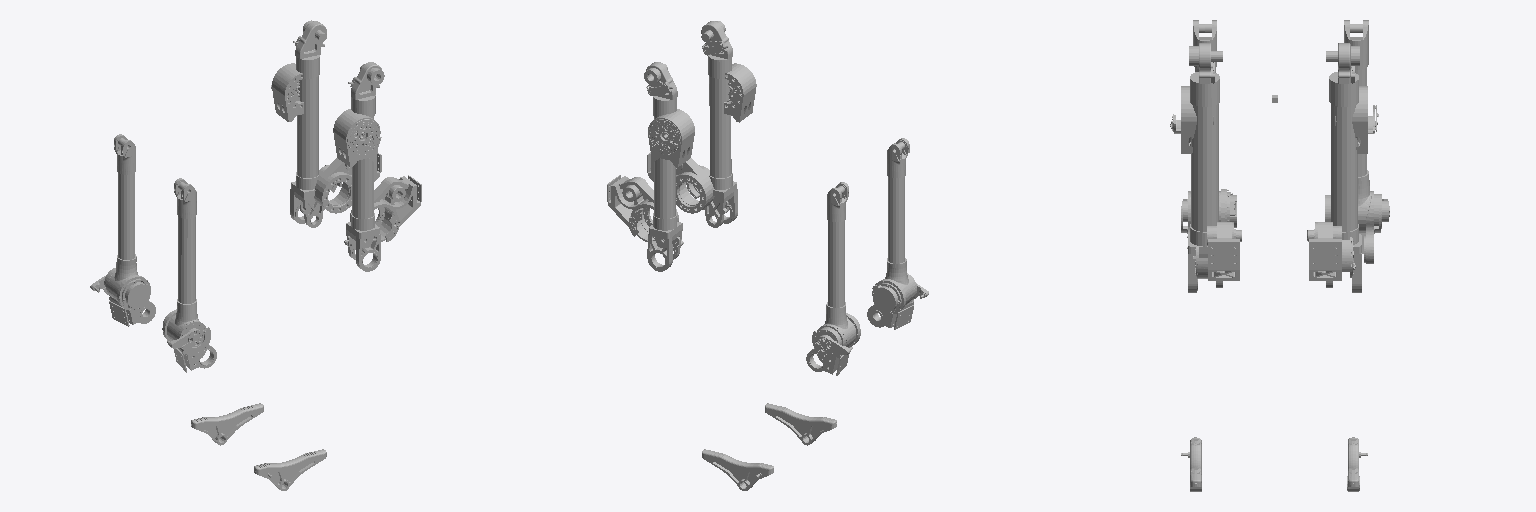
--- Render facts (derived) ---
The picture shows the robot from 3 angles, left to right: view 1: azimuth 30°, elevation 25°; view 2: azimuth 150°, elevation 25°; view 3: azimuth 270°, elevation 25°; orthographic projection.
Robot: urdf_5 — 16 links, 15 joints (14 revolute, 1 fixed); root link pelvis; default pose: all joints at 0.
Visible links, largest first — view 1: l_tarsus, r_tarsus, l_shin, r_shin, r_knee, r_hip_yaw, l_knee, l_hip_yaw, l_toe, r_toe; view 2: r_tarsus, r_shin, l_tarsus, l_shin, l_knee, l_hip_yaw, r_knee, r_hip_yaw, r_toe, l_toe; view 3: r_shin, l_shin, l_tarsus, l_knee, r_knee, r_tarsus, l_hip_yaw, r_hip_yaw, r_toe, l_toe.
Boxes of the visible links, box(x1,y1,x2,y2) form: l_tarsus: box(90, 134, 155, 326); r_tarsus: box(162, 178, 216, 372); l_shin: box(290, 20, 326, 227); r_shin: box(344, 62, 384, 271); r_knee: box(350, 175, 421, 241); r_hip_yaw: box(333, 109, 381, 167); l_knee: box(314, 153, 381, 213); l_hip_yaw: box(271, 63, 303, 121); l_toe: box(191, 403, 263, 445); r_toe: box(254, 449, 326, 490); r_tarsus: box(867, 138, 928, 329); r_shin: box(701, 21, 737, 227); l_tarsus: box(806, 182, 860, 375); l_shin: box(644, 62, 683, 271); l_knee: box(607, 175, 678, 241); l_hip_yaw: box(648, 109, 694, 166); r_knee: box(647, 152, 714, 213); r_hip_yaw: box(709, 63, 756, 122); r_toe: box(765, 403, 836, 445); l_toe: box(702, 449, 773, 490); r_shin: box(1188, 43, 1222, 292); l_shin: box(1326, 43, 1361, 292); l_tarsus: box(1325, 20, 1389, 263); l_knee: box(1307, 222, 1355, 280); r_knee: box(1193, 222, 1241, 280); r_tarsus: box(1181, 20, 1236, 248); l_hip_yaw: box(1335, 86, 1378, 153); r_hip_yaw: box(1170, 86, 1213, 153); r_toe: box(1181, 437, 1201, 491); l_toe: box(1347, 437, 1367, 491).
Size in the robot's own frame: 0.6566 by 0.3835 by 0.9679 metres.
Meshes: 16 distinct files referenced, 11 mesh visuals loaded (11 binary STL); not drawn: 5 (reference not matched to a file when rendering).

robot.urdf — urdf_5:
<?xml version="1.0" encoding="utf-8"?>
<!-- This URDF was automatically created by SolidWorks to URDF Exporter! Originally created by Stephen Brawner ([email redacted]) 
     Commit Version: 1.5.1-0-g916b5db  Build Version: 1.5.7152.31018
     For more information, please see http://wiki.ros.org/sw_urdf_exporter -->
<robot
  name="urdf_5">
  <link
    name="pelvis">
    <inertial>
      <origin
        xyz="0.0295583628182488 3.89626767705723E-05 -0.0155783424997366"
        rpy="0 0 0" />
      <mass
        value="6.56964969274137" />
      <inertia
        ixx="0.0235604863264443"
        ixy="-2.84451907912667E-06"
        ixz="7.97597097465654E-06"
        iyy="0.014455865873678"
        iyz="-6.61650817705916E-07"
        izz="0.010763598299641" />
    </inertial>
    <visual>
      <origin
        xyz="0 0 0"
        rpy="0 0 0" />
      <geometry>
        <mesh
          filename="package://urdf_5/meshes/pelvis.STL" />
      </geometry>
      <material
        name="">
        <color
          rgba="0.898039215686275 0.917647058823529 0.929411764705882 1" />
      </material>
    </visual>
    <collision>
      <origin
        xyz="0 0 0"
        rpy="0 0 0" />
      <geometry>
        <mesh
          filename="package://urdf_5/meshes/pelvis.STL" />
      </geometry>
    </collision>
  </link>
  <link
    name="r_hip_roll">
    <inertial>
      <origin
        xyz="-0.0197574983038815 6.70238844217574E-05 -0.0419288941787987"
        rpy="0 0 0" />
      <mass
        value="1.97423093969954" />
      <inertia
        ixx="0.00185917486275064"
        ixy="1.49050941020286E-06"
        ixz="6.47326004132623E-06"
        iyy="0.00121028974020037"
        iyz="-5.40839098441066E-07"
        izz="0.00117581613527246" />
    </inertial>
    <visual>
      <origin
        xyz="0 0 0"
        rpy="0 0 0" />
      <geometry>
        <mesh
          filename="package://urdf_5/meshes/r_hip_roll.STL" />
      </geometry>
      <material
        name="">
        <color
          rgba="0.752941176470588 0.752941176470588 0.752941176470588 1" />
      </material>
    </visual>
    <collision>
      <origin
        xyz="0 0 0"
        rpy="0 0 0" />
      <geometry>
        <mesh
          filename="package://urdf_5/meshes/r_hip_roll.STL" />
      </geometry>
    </collision>
  </link>
  <joint
    name="hip_abduction_right"
    type="revolute">
    <origin
      xyz="-0.0195 -0.134506096654411 -0.0478050865276331"
      rpy="0 1.5707963267949 0" />
    <parent
      link="pelvis" />
    <child
      link="r_hip_roll" />
    <axis
      xyz="0 0 1" />
    <limit
      lower="-0.069"
      upper="0.344"
      effort="10"
      velocity="15" />
  </joint>
  <link
    name="r_hip_yaw">
    <inertial>
      <origin
        xyz="-4.73889251259713E-05 -0.00363016329193702 -0.0508973830153509"
        rpy="0 0 0" />
      <mass
        value="2.43369646818749" />
      <inertia
        ixx="0.00169395681390418"
        ixy="1.50517005595135E-07"
        ixz="-2.19244261918116E-06"
        iyy="0.00234333945964064"
        iyz="3.68852375682851E-05"
        izz="0.00159777296294738" />
    </inertial>
    <visual>
      <origin
        xyz="0 0 0"
        rpy="0 0 0" />
      <geometry>
        <mesh
          filename="package://urdf_5/meshes/r_hip_yaw.STL" />
      </geometry>
      <material
        name="">
        <color
          rgba="0.752941176470588 0.752941176470588 0.752941176470588 1" />
      </material>
    </visual>
    <collision>
      <origin
        xyz="0 0 0"
        rpy="0 0 0" />
      <geometry>
        <mesh
          filename="package://urdf_5/meshes/r_hip_yaw.STL" />
      </geometry>
    </collision>
  </link>
  <joint
    name="hip_rotation_right"
    type="revolute">
    <origin
      xyz="0.0374999999999999 0 -0.0430000000000001"
      rpy="3.14159265358979 1.5707963267949 0" />
    <parent
      link="r_hip_roll" />
    <child
      link="r_hip_yaw" />
    <axis
      xyz="0 0 -1" />
    <limit
      lower="-0.681196"
      upper="0.44797"
      effort="10"
      velocity="15" />
  </joint>
  <link
    name="r_thigh">
    <inertial>
      <origin
        xyz="-0.0745079808230154 0.052111267790468 -0.0494445886607852"
        rpy="0 0 0" />
      <mass
        value="3.91559915557665" />
      <inertia
        ixx="0.00344102351153632"
        ixy="0.00110098559640812"
        ixz="1.28514417494688E-05"
        iyy="0.00424320943024533"
        iyz="-9.32936140950999E-06"
        izz="0.00646296325711755" />
    </inertial>
    <visual>
      <origin
        xyz="0 0 0"
        rpy="0 0 0" />
      <geometry>
        <mesh
          filename="package://urdf_5/meshes/r_thigh.STL" />
      </geometry>
      <material
        name="">
        <color
          rgba="0.752941176470588 0.752941176470588 0.752941176470588 1" />
      </material>
    </visual>
    <collision>
      <origin
        xyz="0 0 0"
        rpy="0 0 0" />
      <geometry>
        <mesh
          filename="package://urdf_5/meshes/r_thigh.STL" />
      </geometry>
    </collision>
  </link>
  <joint
    name="hip_flexion_right"
    type="revolute">
    <origin
      xyz="0 -0.0288 -0.0555"
      rpy="1.5708 -1.5708 0" />
    <parent
      link="r_hip_yaw" />
    <child
      link="r_thigh" />
    <axis
      xyz="0 0 -1" />
    <limit
      lower="-1.6"
      upper="0.92"
      effort="10"
      velocity="15" />
  </joint>
  <link
    name="r_knee">
    <inertial>
      <origin
        xyz="-0.0673347908699271 -0.0408261195227061 -0.0468258514381678"
        rpy="0 0 0" />
      <mass
        value="1.01415633393374" />
      <inertia
        ixx="0.00138091069071133"
        ixy="-0.000368990120373793"
        ixz="6.67170729229829E-05"
        iyy="0.00150859277279031"
        iyz="3.04334793097718E-05"
        izz="0.00232695030098416" />
    </inertial>
    <visual>
      <origin
        xyz="0 0 0"
        rpy="0 0 0" />
      <geometry>
        <mesh
          filename="package://urdf_5/meshes/r_knee.STL" />
      </geometry>
      <material
        name="">
        <color
          rgba="0.752941176470588 0.752941176470588 0.752941176470588 1" />
      </material>
    </visual>
    <collision>
      <origin
        xyz="0 0 0"
        rpy="0 0 0" />
      <geometry>
        <mesh
          filename="package://urdf_5/meshes/r_knee.STL" />
      </geometry>
    </collision>
  </link>
  <joint
    name="knee_joint_right"
    type="revolute">
    <origin
      xyz="-0.0982982453146869 0.0688291723621176 0.0175000000000045"
      rpy="0 0 0" />
    <parent
      link="r_thigh" />
    <child
      link="r_knee" />
    <axis
      xyz="0 0 -1" />
    <limit
      lower="-1.4"
      upper="1.4"
      effort="10"
      velocity="15" />
  </joint>
  <link
    name="r_shin">
    <inertial>
      <origin
        xyz="-0.0655655590465977 -0.214237329289944 -0.012227728603061"
        rpy="0 0 0" />
      <mass
        value="0.779006439067188" />
      <inertia
        ixx="0.001885379913285"
        ixy="-0.000499796698378055"
        ixz="1.5631863147635E-05"
        iyy="0.000554466898366838"
        iyz="4.66941850735502E-05"
        izz="0.00211050664331812" />
    </inertial>
    <visual>
      <origin
        xyz="0 0 0"
        rpy="0 0 0" />
      <geometry>
        <mesh
          filename="package://urdf_5/meshes/r_shin.STL" />
      </geometry>
      <material
        name="">
        <color
          rgba="0.752941176470588 0.752941176470588 0.752941176470588 1" />
      </material>
    </visual>
    <collision>
      <origin
        xyz="0 0 0"
        rpy="0 0 0" />
      <geometry>
        <mesh
          filename="package://urdf_5/meshes/r_shin.STL" />
      </geometry>
    </collision>
  </link>
  <joint
    name="knee_to_shin_right"
    type="revolute">
    <origin
      xyz="-0.0622865114519081 -0.0452537994909014 -0.0332000000000044"
      rpy="0 0 0" />
    <parent
      link="r_knee" />
    <child
      link="r_shin" />
    <axis
      xyz="0 0 -1" />
    <limit
      lower="-100"
      upper="100"
      effort="0"
      velocity="100" />
  </joint>
  <link
    name="r_tarsus">
    <inertial>
      <origin
        xyz="-0.0971045118176032 0.0211752476502589 -0.012271872384403"
        rpy="0 0 0" />
      <mass
        value="2.32212245172256" />
      <inertia
        ixx="0.00177914816893645"
        ixy="0.00149931256042182"
        ixz="6.01246794473345E-05"
        iyy="0.00327667598598386"
        iyz="6.39186335575597E-06"
        izz="0.00448861418919199" />
    </inertial>
    <visual>
      <origin
        xyz="0 0 0"
        rpy="0 0 0" />
      <geometry>
        <mesh
          filename="package://urdf_5/meshes/r_tarsus.STL" />
      </geometry>
      <material
        name="">
        <color
          rgba="0.752941176470588 0.752941176470588 0.752941176470588 1" />
      </material>
    </visual>
    <collision>
      <origin
        xyz="0 0 0"
        rpy="0 0 0" />
      <geometry>
        <mesh
          filename="package://urdf_5/meshes/r_tarsus.STL" />
      </geometry>
    </collision>
  </link>
  <joint
    name="ankle_joint_right"
    type="revolute">
    <origin
      xyz="-0.139072356227994 -0.412443838277642 -0.00209999999999977"
      rpy="0 0 0" />
    <parent
      link="r_shin" />
    <child
      link="r_tarsus" />
    <axis
      xyz="0 0 -1" />
    <limit
      lower="-100"
      upper="100"
      effort="0"
      velocity="100" />
  </joint>
  <link
    name="r_toe">
    <inertial>
      <origin
        xyz="-0.0317994627773587 0.0131603145338895 0.00022635510387084"
        rpy="0 0 0" />
      <mass
        value="0.190609208184761" />
      <inertia
        ixx="0.000403925014775728"
        ixy="1.80428934533816E-05"
        ixz="3.53742223816384E-07"
        iyy="4.57189572620081E-05"
        iyz="2.25660506417667E-06"
        izz="0.000437978027001801" />
    </inertial>
    <visual>
      <origin
        xyz="0 0 0"
        rpy="0 0 0" />
      <geometry>
        <mesh
          filename="package://urdf_5/meshes/r_toe.STL" />
      </geometry>
      <material
        name="">
        <color
          rgba="0.752941176470588 0.752941176470588 0.752941176470588 1" />
      </material>
    </visual>
    <collision>
      <origin
        xyz="0 0 0"
        rpy="0 0 0" />
      <geometry>
        <mesh
          filename="package://urdf_5/meshes/r_toe.STL" />
      </geometry>
    </collision>
  </link>
  <joint
    name="toe_joint_right"
    type="revolute">
    <origin
      xyz="-0.357107796380238 0.199306351540648 -0.0138000000000043"
      rpy="0 0 0" />
    <parent
      link="r_tarsus" />
    <child
      link="r_toe" />
    <axis
      xyz="0 0 1" />
    <limit
      lower="-0.48"
      upper="0.8929"
      effort="10"
      velocity="15" />
  </joint>
  <link
    name="l_hip_roll">
    <inertial>
      <origin
        xyz="-0.0197574983038945 6.70238844331927E-05 -0.0419288941787983"
        rpy="0 0 0" />
      <mass
        value="1.97423093969954" />
      <inertia
        ixx="0.00185917486275064"
        ixy="1.49050941021026E-06"
        ixz="6.4732600413259E-06"
        iyy="0.00121028974020037"
        iyz="-5.40839098440844E-07"
        izz="0.00117581613527246" />
    </inertial>
    <visual>
      <origin
        xyz="0 0 0"
        rpy="0 0 0" />
      <geometry>
        <mesh
          filename="package://urdf_5/meshes/l_hip_roll.STL" />
      </geometry>
      <material
        name="">
        <color
          rgba="0.752941176470588 0.752941176470588 0.752941176470588 1" />
      </material>
    </visual>
    <collision>
      <origin
        xyz="0 0 0"
        rpy="0 0 0" />
      <geometry>
        <mesh
          filename="package://urdf_5/meshes/l_hip_roll.STL" />
      </geometry>
    </collision>
  </link>
  <joint
    name="hip_abduction_left"
    type="revolute">
    <origin
      xyz="-0.0195 0.13451 -0.047805"
      rpy="0 1.5708 0" />
    <parent
      link="pelvis" />
    <child
      link="l_hip_roll" />
    <axis
      xyz="0 0 -1" />
    <limit
      lower="-0.5944"
      upper="0.1442"
      effort="10"
      velocity="15" />
  </joint>
  <link
    name="l_hip_yaw">
    <inertial>
      <origin
        xyz="4.73889254370419E-05 0.0036301632926162 -0.0508973830148025"
        rpy="0 0 0" />
      <mass
        value="2.43369646823689" />
      <inertia
        ixx="0.00169395681390481"
        ixy="1.50517004720118E-07"
        ixz="2.1924426180063E-06"
        iyy="0.00234333945964616"
        iyz="-3.68852375683957E-05"
        izz="0.00159777296295269" />
    </inertial>
    <visual>
      <origin
        xyz="0 0 0"
        rpy="0 0 0" />
      <geometry>
        <mesh
          filename="package://urdf_5/meshes/l_hip_yaw.STL" />
      </geometry>
      <material
        name="">
        <color
          rgba="0.752941176470588 0.752941176470588 0.752941176470588 1" />
      </material>
    </visual>
    <collision>
      <origin
        xyz="0 0 0"
        rpy="0 0 0" />
      <geometry>
        <mesh
          filename="package://urdf_5/meshes/l_hip_yaw.STL" />
      </geometry>
    </collision>
  </link>
  <joint
    name="hip_rotation_left"
    type="revolute">
    <origin
      xyz="0.0374999999999868 0 -0.0429999999999999"
      rpy="3.14159265358979 1.5707963267949 0" />
    <parent
      link="l_hip_roll" />
    <child
      link="l_hip_yaw" />
    <axis
      xyz="0 0 -1" />
    <limit
      lower="-0.4954"
      upper="0.5398"
      effort="10"
      velocity="15" />
  </joint>
  <link
    name="l_thigh">
    <inertial>
      <origin
        xyz="-0.0744518040820603 0.0521914964905483 0.0494445886564207"
        rpy="0 0 0" />
      <mass
        value="3.91559915533823" />
      <inertia
        ixx="0.00344167160376412"
        ixy="0.00110122148268822"
        ixz="-1.31621840222351E-05"
        iyy="0.00424256133801776"
        iyz="8.88557545204398E-06"
        izz="0.0064629632571176" />
    </inertial>
    <visual>
      <origin
        xyz="0 0 0"
        rpy="0 0 0" />
      <geometry>
        <mesh
          filename="package://urdf_5/meshes/l_thigh.STL" />
      </geometry>
      <material
        name="">
        <color
          rgba="0.752941176470588 0.752941176470588 0.752941176470588 1" />
      </material>
    </visual>
    <collision>
      <origin
        xyz="0 0 0"
        rpy="0 0 0" />
      <geometry>
        <mesh
          filename="package://urdf_5/meshes/l_thigh.STL" />
      </geometry>
    </collision>
  </link>
  <joint
    name="hip_flexion_left"
    type="revolute">
    <origin
      xyz="0 0.0288 -0.0554999999999999"
      rpy="1.5707963267949 -1.5707963267949 0" />
    <parent
      link="l_hip_yaw" />
    <child
      link="l_thigh" />
    <axis
      xyz="0 0 1" />
    <limit
      lower="-0.6"
      upper="1.5"
      effort="10"
      velocity="15" />
  </joint>
  <link
    name="l_knee">
    <inertial>
      <origin
        xyz="-0.0674504468774295 -0.0412252555293424 0.0468358431629735"
        rpy="0 0 0" />
      <mass
        value="1.01415630200042" />
      <inertia
        ixx="0.00138260359008994"
        ixy="-0.000366289518226366"
        ixz="-6.65724363896731E-05"
        iyy="0.00150689989702241"
        iyz="-2.99281840357891E-05"
        izz="0.0023269503250984" />
    </inertial>
    <visual>
      <origin
        xyz="0 0 0"
        rpy="0 0 0" />
      <geometry>
        <mesh
          filename="package://urdf_5/meshes/l_knee.STL" />
      </geometry>
      <material
        name="">
        <color
          rgba="0.752941176470588 0.752941176470588 0.752941176470588 1" />
      </material>
    </visual>
    <collision>
      <origin
        xyz="0 0 0"
        rpy="0 0 0" />
      <geometry>
        <mesh
          filename="package://urdf_5/meshes/l_knee.STL" />
      </geometry>
    </collision>
  </link>
  <joint
    name="knee_joint_left"
    type="revolute">
    <origin
      xyz="-0.0982982453146868 0.0688291723621176 -0.0175000000000029"
      rpy="0 0 0" />
    <parent
      link="l_thigh" />
    <child
      link="l_knee" />
    <axis
      xyz="0 0 1" />
    <limit
      lower="-1.5"
      upper="1.4648"
      effort="10"
      velocity="15" />
  </joint>
  <link
    name="l_shin">
    <inertial>
      <origin
        xyz="-0.0655890782733554 -0.214230585561483 0.0120337722608557"
        rpy="0 0 0" />
      <mass
        value="0.779006437877839" />
      <inertia
        ixx="0.00188530034989171"
        ixy="-0.000499924025736178"
        ixz="-1.56225974135257E-05"
        iyy="0.000554546460742109"
        iyz="-4.66852690344843E-05"
        izz="0.00211050664189535" />
    </inertial>
    <visual>
      <origin
        xyz="0 0 0"
        rpy="0 0 0" />
      <geometry>
        <mesh
          filename="package://urdf_5/meshes/l_shin.STL" />
      </geometry>
      <material
        name="">
        <color
          rgba="0.752941176470588 0.752941176470588 0.752941176470588 1" />
      </material>
    </visual>
    <collision>
      <origin
        xyz="0 0 0"
        rpy="0 0 0" />
      <geometry>
        <mesh
          filename="package://urdf_5/meshes/l_shin.STL" />
      </geometry>
    </collision>
  </link>
  <joint
    name="knee_to_shin_left"
    type="revolute">
    <origin
      xyz="-0.0622865114519203 -0.0452537994909036 0.0331999999999999"
      rpy="0 0 0" />
    <parent
      link="l_knee" />
    <child
      link="l_shin" />
    <axis
      xyz="0 0 1" />
    <limit
      lower="-100"
      upper="100"
      effort="0"
      velocity="100" />
  </joint>
  <link
    name="l_tarsus">
    <inertial>
      <origin
        xyz="-0.098240475644217 0.0218479145089399 -0.0140302968943402"
        rpy="0 0 0" />
      <mass
        value="2.23445648997649" />
      <inertia
        ixx="0.00172488918516966"
        ixy="0.00149848598415153"
        ixz="-6.02379368655242E-05"
        iyy="0.00322184056051334"
        iyz="-6.0516762207601E-06"
        izz="0.00448262085209372" />
    </inertial>
    <visual>
      <origin
        xyz="0 0 0"
        rpy="0 0 0" />
      <geometry>
        <mesh
          filename="package://urdf_5/meshes/l_tarsus.STL" />
      </geometry>
      <material
        name="">
        <color
          rgba="0.752941176470588 0.752941176470588 0.752941176470588 1" />
      </material>
    </visual>
    <collision>
      <origin
        xyz="0 0 0"
        rpy="0 0 0" />
      <geometry>
        <mesh
          filename="package://urdf_5/meshes/l_tarsus.STL" />
      </geometry>
    </collision>
  </link>
  <joint
    name="ankle_joint_left"
    type="revolute">
    <origin
      xyz="-0.139072356227982 -0.412443838277641 0.0240999999999996"
      rpy="0 0 0" />
    <parent
      link="l_shin" />
    <child
      link="l_tarsus" />
    <axis
      xyz="0 0 1" />
    <limit
      lower="-100"
      upper="100"
      effort="0"
      velocity="100" />
  </joint>
  <link
    name="l_toe">
    <inertial>
      <origin
        xyz="-0.0317994743773792 0.013160333256441 -0.000226358169664376"
        rpy="0 0 0" />
      <mass
        value="0.19060936084334" />
      <inertia
        ixx="0.000403925512066597"
        ixy="1.80429609624397E-05"
        ixz="-3.53743644476318E-07"
        iyy="4.57190164090642E-05"
        iyz="-2.25659779891495E-06"
        izz="0.000437978588037868" />
    </inertial>
    <visual>
      <origin
        xyz="0 0 0"
        rpy="0 0 0" />
      <geometry>
        <mesh
          filename="package://urdf_5/meshes/l_toe.STL" />
      </geometry>
      <material
        name="">
        <color
          rgba="0.752941176470588 0.752941176470588 0.752941176470588 1" />
      </material>
    </visual>
    <collision>
      <origin
        xyz="0 0 0"
        rpy="0 0 0" />
      <geometry>
        <mesh
          filename="package://urdf_5/meshes/l_toe.STL" />
      </geometry>
    </collision>
  </link>
  <joint
    name="toe_joint_left"
    type="revolute">
    <origin
      xyz="-0.357107796380238 0.199306351540648 -0.00800000000000017"
      rpy="0 0 0" />
    <parent
      link="l_tarsus" />
    <child
      link="l_toe" />
    <axis
      xyz="0 0 1" />
    <limit
      lower="-0.4154"
      upper="0.7695"
      effort="10"
      velocity="15" />
  </joint>
  <link
    name="vectorNav">
    <inertial>
      <origin
        xyz="0 6.02663941971435E-19 -1.38777878078145E-17"
        rpy="0 0 0" />
      <mass
        value="0.001" />
      <inertia
        ixx="1.66666666666667E-08"
        ixy="-1.85249634868463E-24"
        ixz="1.30104260698261E-24"
        iyy="1.66666666666667E-08"
        iyz="5.51453741702019E-25"
        izz="1.66666666666667E-08" />
    </inertial>
    <visual>
      <origin
        xyz="0 0 0"
        rpy="0 0 0" />
      <geometry>
        <mesh
          filename="package://urdf_5/meshes/vectorNav.STL" />
      </geometry>
      <material
        name="">
        <color
          rgba="0.752941176470588 0.752941176470588 0.752941176470588 1" />
      </material>
    </visual>
    <collision>
      <origin
        xyz="0 0 0"
        rpy="0 0 0" />
      <geometry>
        <mesh
          filename="package://urdf_5/meshes/vectorNav.STL" />
      </geometry>
    </collision>
  </link>
  <joint
    name="pelvis_to_vectorNav"
    type="fixed">
    <origin
      xyz="0.05413 0 0.085"
      rpy="0 0 0" />
    <parent
      link="pelvis" />
    <child
      link="vectorNav" />
    <axis
      xyz="0 0 0" />
  </joint>
  <transmission name="hip_abduction_trans_left" type="transmission_interface/SimpleTransmission">
    <joint name="hip_abduction_left"/>
    <actuator name="hip_abduction_motor_left"/>
    <motorInertia>0.000061</motorInertia>
    <mechanicalReduction>50</mechanicalReduction>
  </transmission>
  <transmission name="hip_rotation_trans_left" type="transmission_interface/SimpleTransmission">
    <joint name="hip_rotation_left"/>
    <actuator name="hip_rotation_motor_left"/>
    <motorInertia>0.000061</motorInertia>
    <mechanicalReduction>50</mechanicalReduction>
  </transmission>
  <transmission name="hip_flexion_trans_left" type="transmission_interface/SimpleTransmission">
    <joint name="hip_flexion_left"/>
    <actuator name="hip_flexion_motor_left"/>
    <motorInertia>0.000365</motorInertia>
    <mechanicalReduction>37</mechanicalReduction>
  </transmission>
  <transmission name="knee_joint_trans_left" type="transmission_interface/SimpleTransmission">
    <joint name="knee_joint_left"/>
    <actuator name="knee_joint_motor_left"/>
    <motorInertia>0.000365</motorInertia>
    <mechanicalReduction>37</mechanicalReduction>
  </transmission>
  <transmission name="toe_joint_trans_left" type="transmission_interface/SimpleTransmission">
    <joint name="toe_joint_left"/>
    <actuator name="toe_joint_motor_left"/>
    <motorInertia>0.0000049</motorInertia>
    <mechanicalReduction>50</mechanicalReduction>
  </transmission>
  <transmission name="hip_abduction_trans_right" type="transmission_interface/SimpleTransmission">
    <joint name="hip_abduction_right"/>
    <actuator name="hip_abduction_motor_right"/>
    <motorInertia>0.000061</motorInertia>
    <mechanicalReduction>50</mechanicalReduction>
  </transmission>
  <transmission name="hip_rotation_trans_right" type="transmission_interface/SimpleTransmission">
    <joint name="hip_rotation_right"/>
    <actuator name="hip_rotation_motor_right"/>
    <motorInertia>0.000061</motorInertia>
    <mechanicalReduction>50</mechanicalReduction>
  </transmission>
  <transmission name="hip_flexion_trans_right" type="transmission_interface/SimpleTransmission">
    <joint name="hip_flexion_right"/>
    <actuator name="hip_flexion_motor_right"/>
    <motorInertia>0.000365</motorInertia>
    <mechanicalReduction>37</mechanicalReduction>
  </transmission>
  <transmission name="knee_joint_trans_right" type="transmission_interface/SimpleTransmission">
    <joint name="knee_joint_right"/>
    <actuator name="knee_joint_motor_right"/>
    <motorInertia>0.000365</motorInertia>
    <mechanicalReduction>37</mechanicalReduction>
  </transmission>
  <transmission name="toe_joint_trans_right" type="transmission_interface/SimpleTransmission">
    <joint name="toe_joint_right"/>
    <actuator name="toe_joint_motor_right"/>
    <motorInertia>0.0000049</motorInertia>
    <mechanicalReduction>50</mechanicalReduction>
  </transmission>
</robot>
